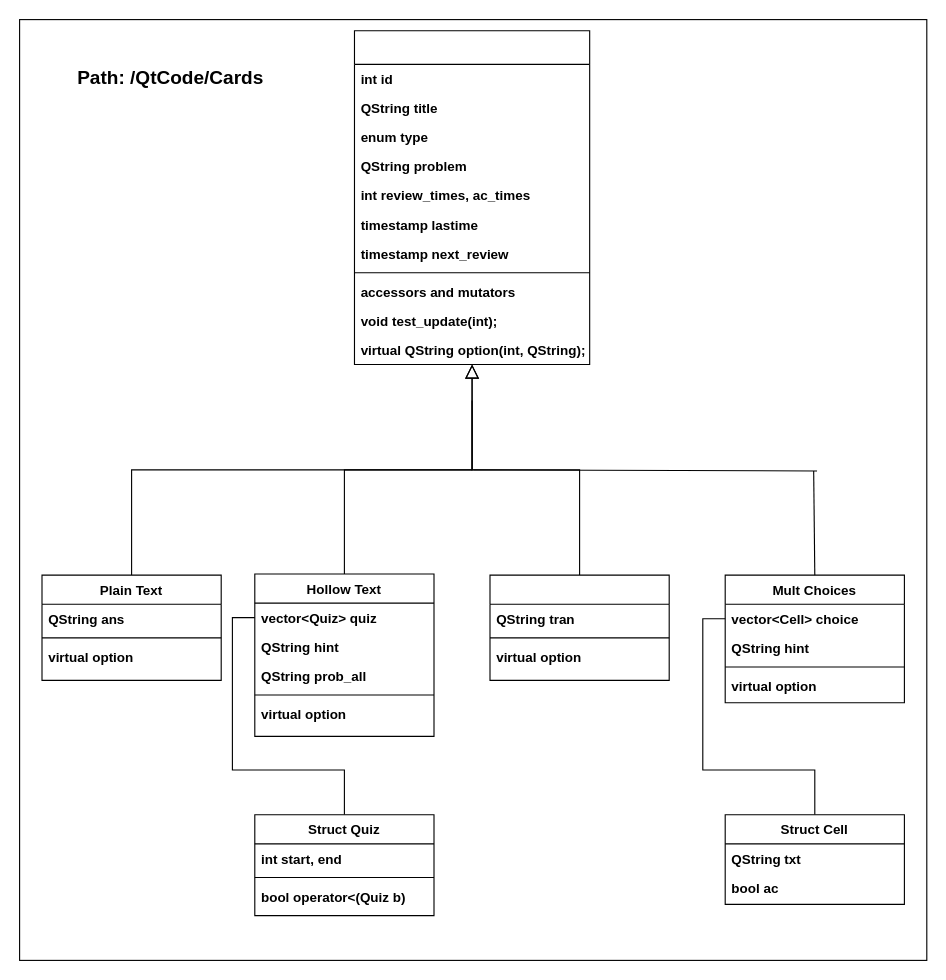
Image size: 946x980. Some labels were removed from this diagram. Each missing label, with the box of its shape:
Card: (353, 30, 590, 365)
Word: (489, 574, 669, 680)
